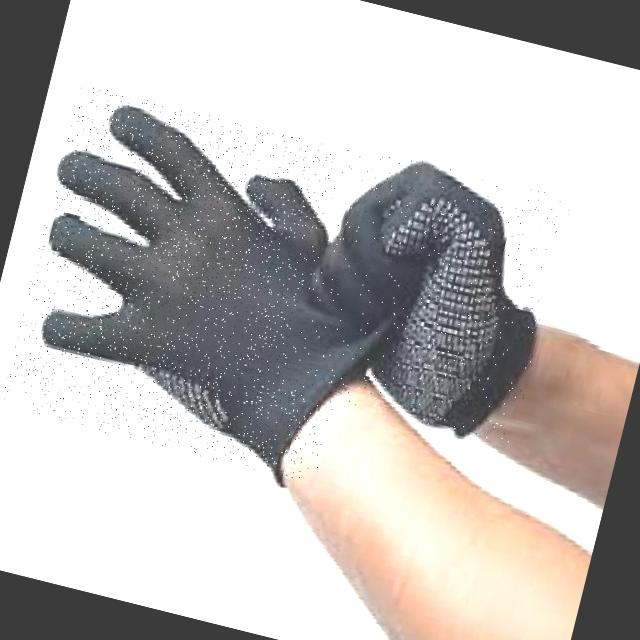gloves: (0, 75, 452, 506), (284, 135, 571, 452)
